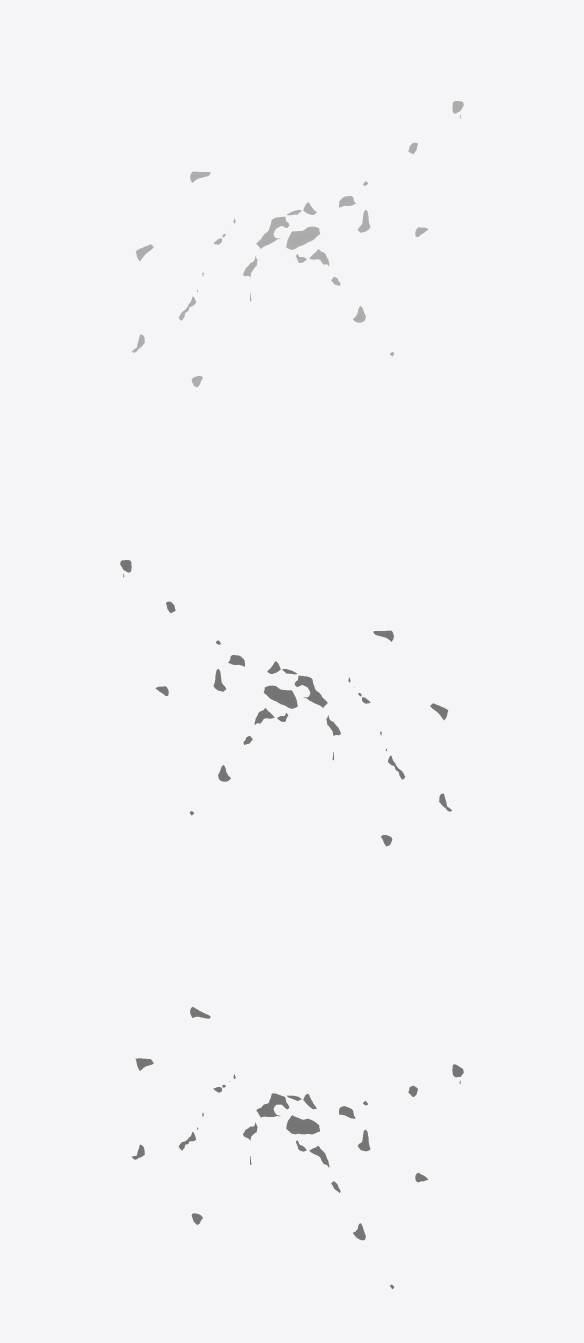
The model's file is cobweb.FBX.
3 views of the same model, one above another, from view 1: azimuth 30°, elevation 25°; view 2: azimuth 150°, elevation 25°; view 3: azimuth 330°, elevation 25° (orthographic).
Parts seen in each view (by area): view 1: cobweb; view 2: cobweb; view 3: cobweb.
Part boxes in pixels (x1,y1,x2,y2): cobweb: (132,101,463,387); cobweb: (120,560,451,846); cobweb: (132,1007,463,1289).
Bounding box in the file's own units: 20.71 × 12.53 × 6.52e-06.
